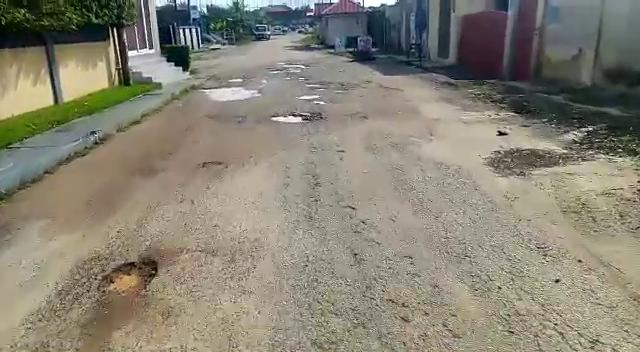pothole: (102, 257, 156, 295), (201, 84, 257, 100), (267, 111, 311, 123), (305, 80, 352, 89)
